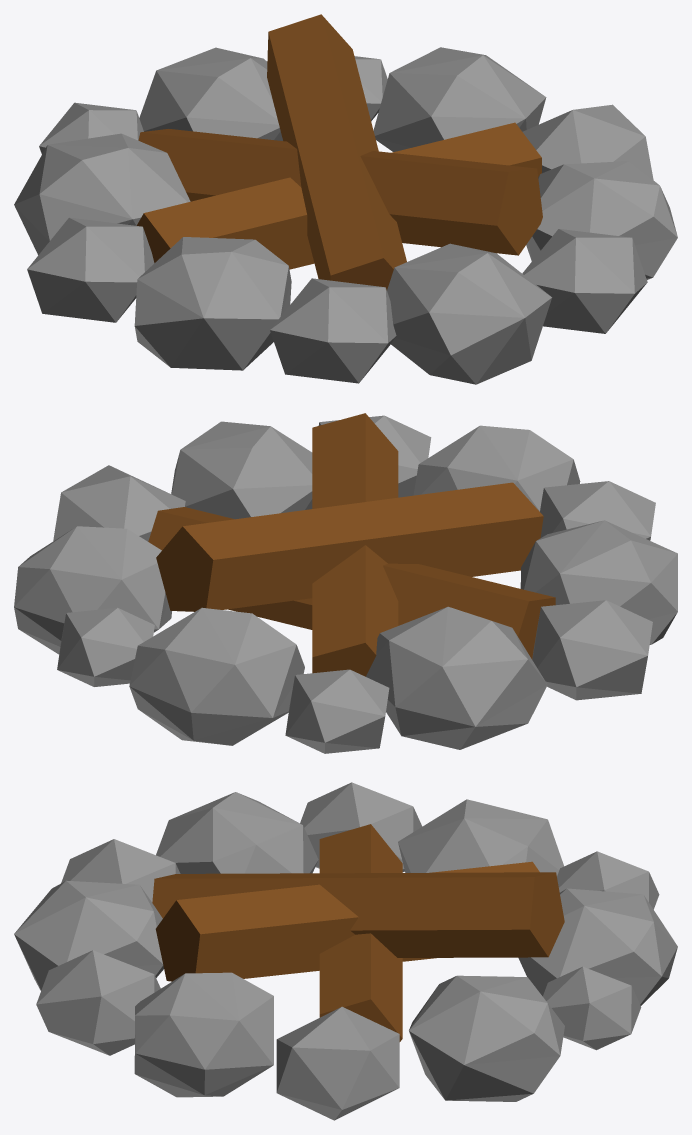
Rendered from Campfire.fbx.
3 renders of one model, top to bottom at view 1: azimuth 30°, elevation 25°; view 2: azimuth 150°, elevation 25°; view 3: azimuth 270°, elevation 25°, orthographic. The views are drawn at different scales.
Visible parts, largest first — view 1: Cylinder.003; view 2: Cylinder.003; view 3: Cylinder.003.
Part boxes in pixels (x1,y1,x2,y2): Cylinder.003: [14, 14, 677, 384]; Cylinder.003: [14, 413, 677, 753]; Cylinder.003: [14, 782, 677, 1120].
Bounding box in the file's own units: 170 × 46.36 × 166.
